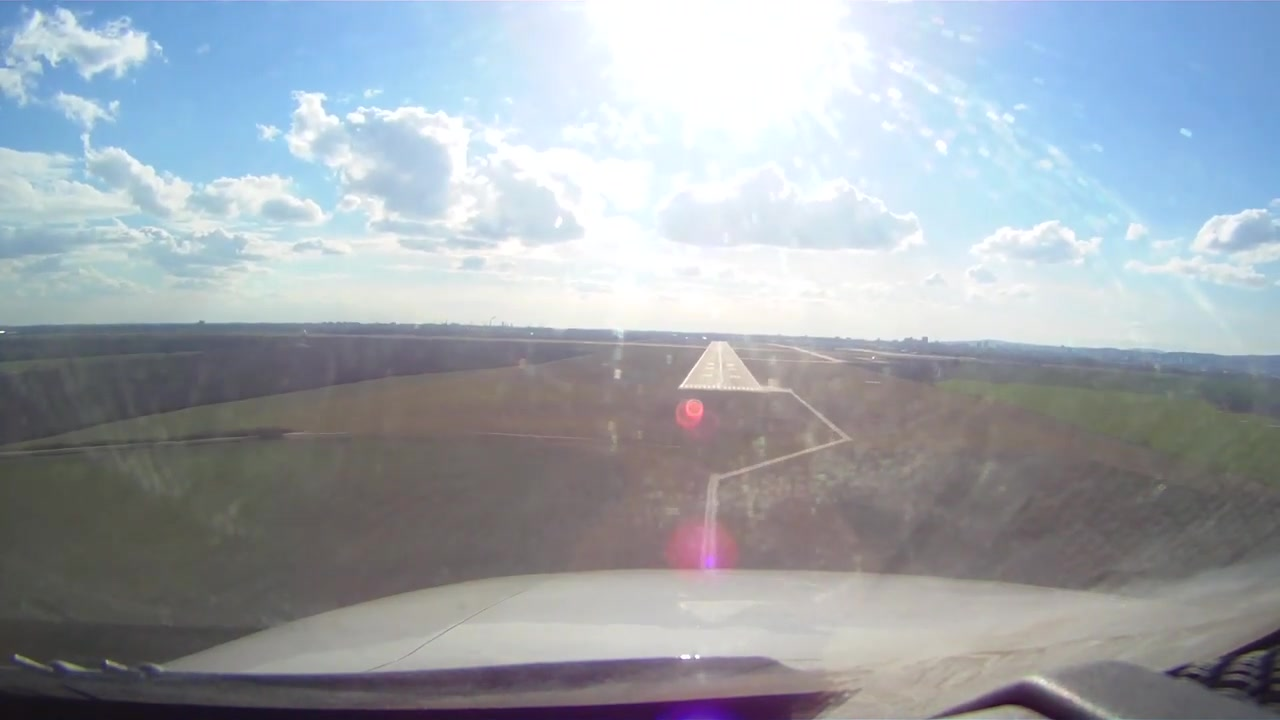entrance: (682, 382, 760, 391)
runway: (679, 342, 764, 391)
